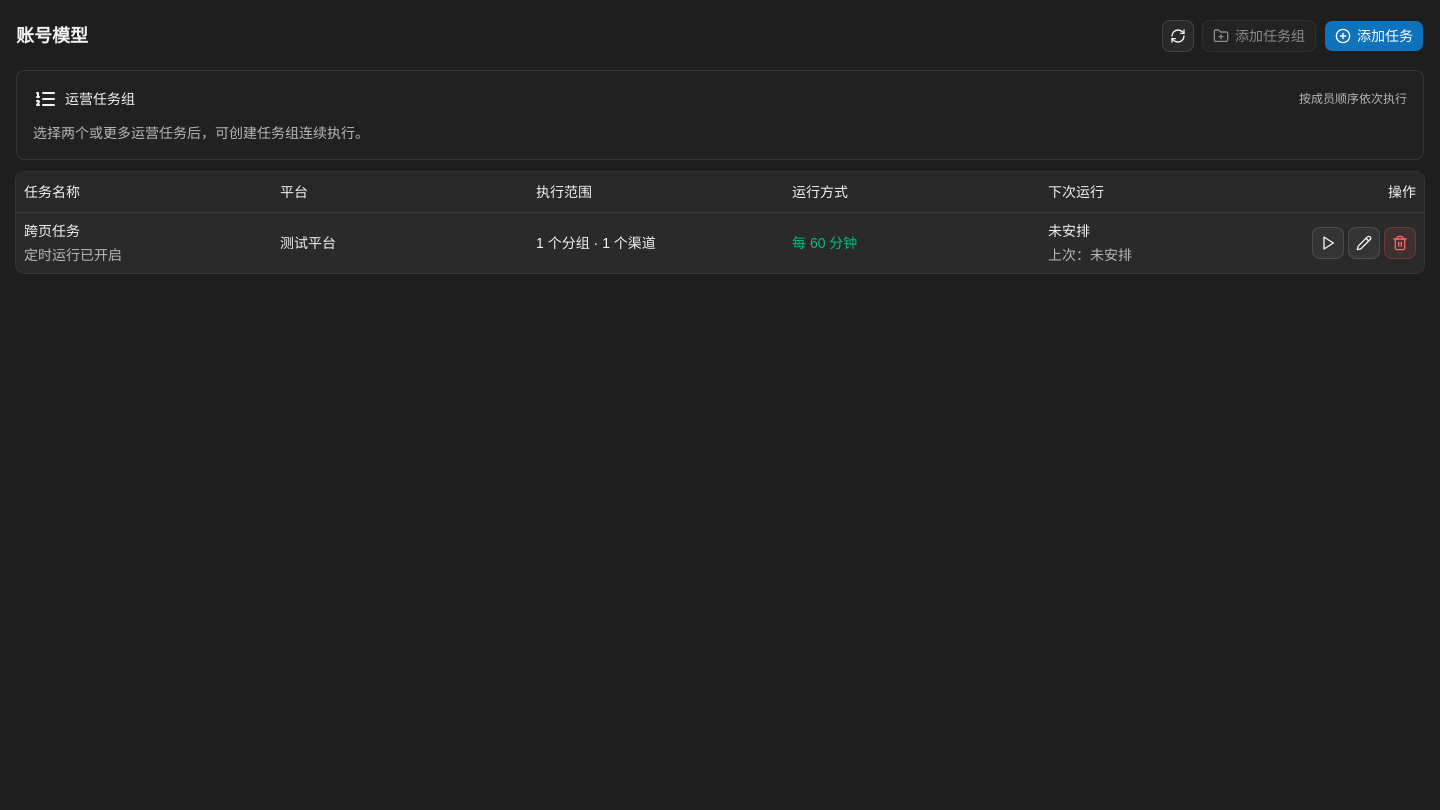
Test: 打开大目录的新增弹窗时只读一页，翻页后保留跨页选择且不缓存全部目录
Step 1. Click the button "添加任务" → (1374, 36), box [1324,20,1424,52]
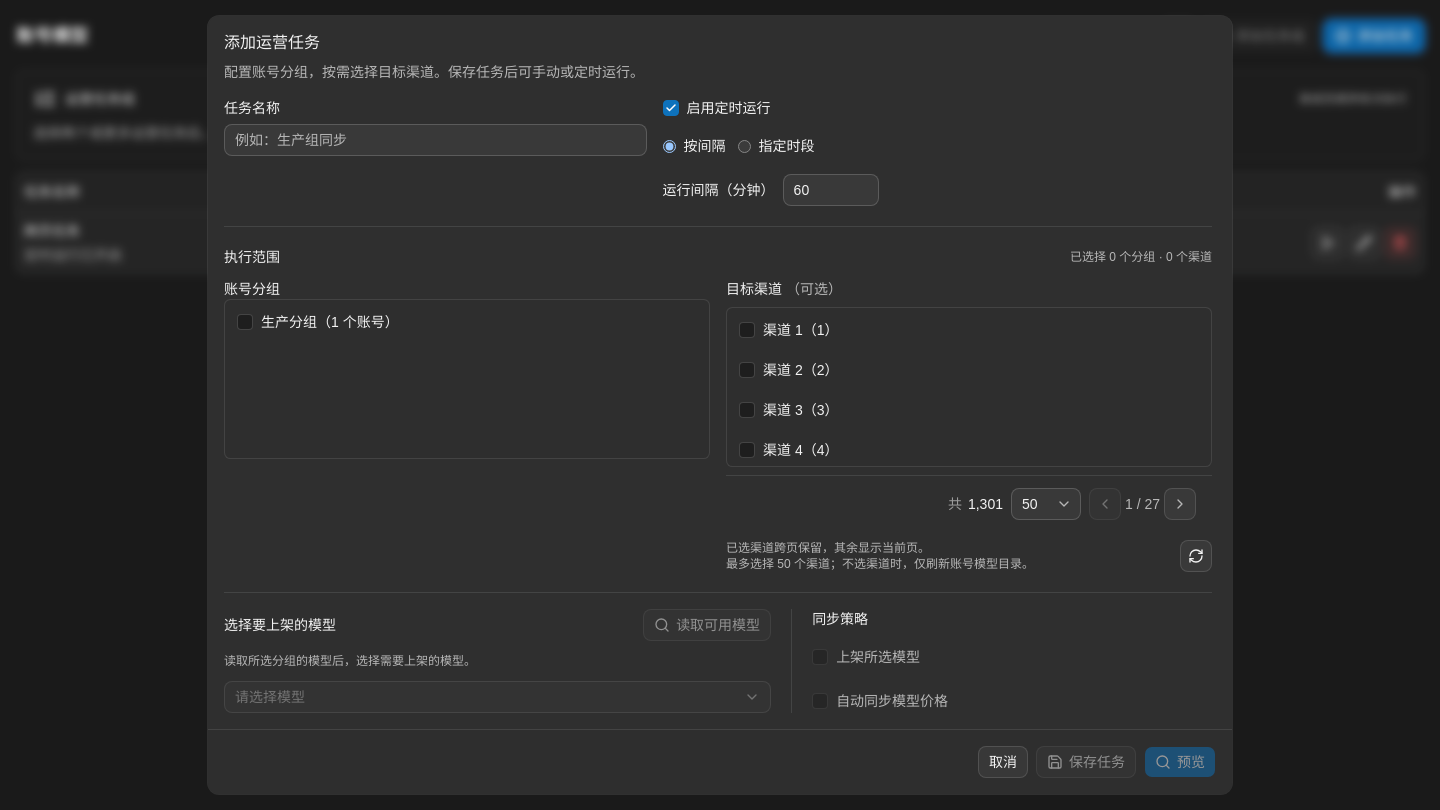
expect the field named "运营任务名称" is shown: met, box [224,124,647,156]
Step 2. Click the checkbox named "渠道 1（1）" next to "渠道 1" → (747, 330), box [739,322,755,338]
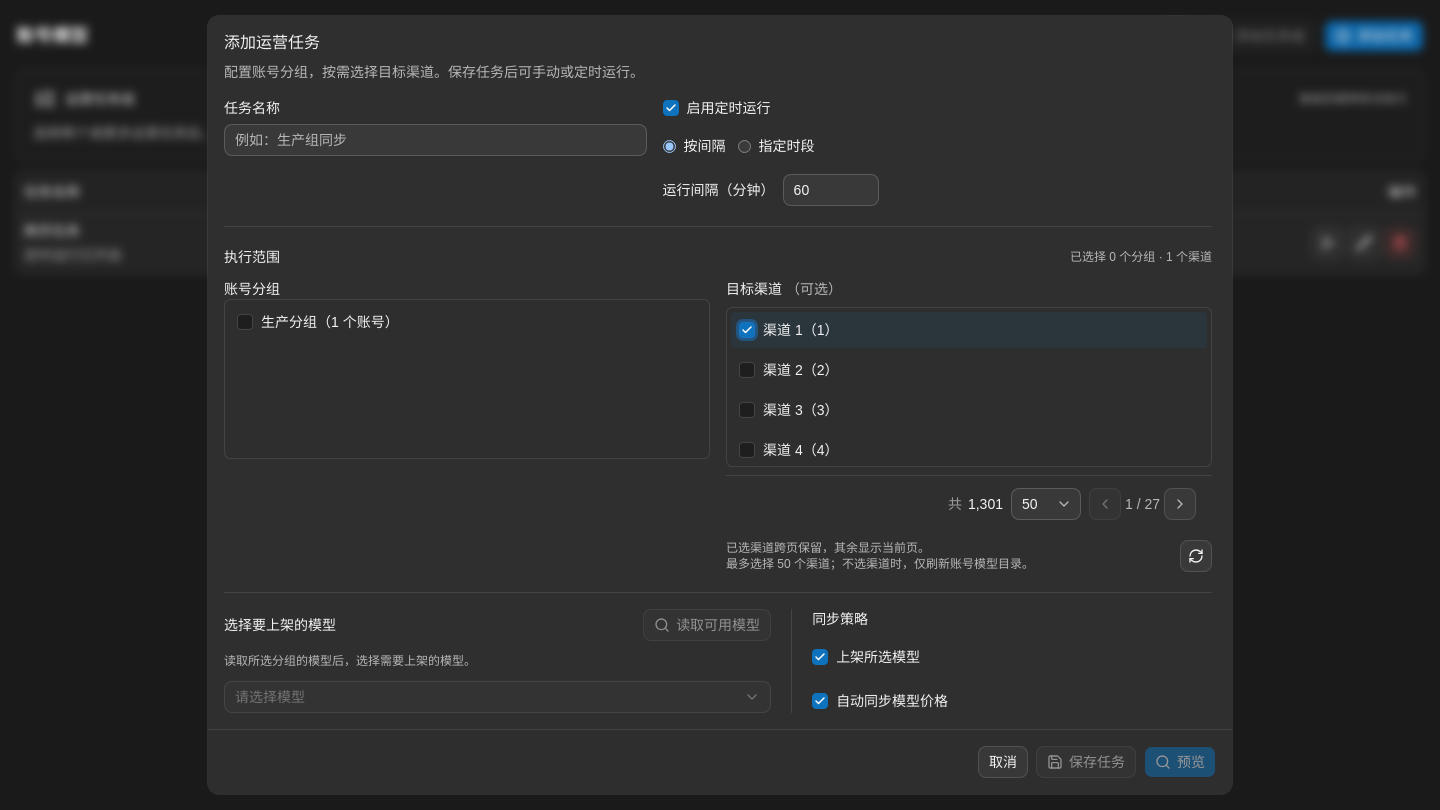
Step 3. Click the button named "转到下一页" → (1180, 504), box [1164,488,1196,520]
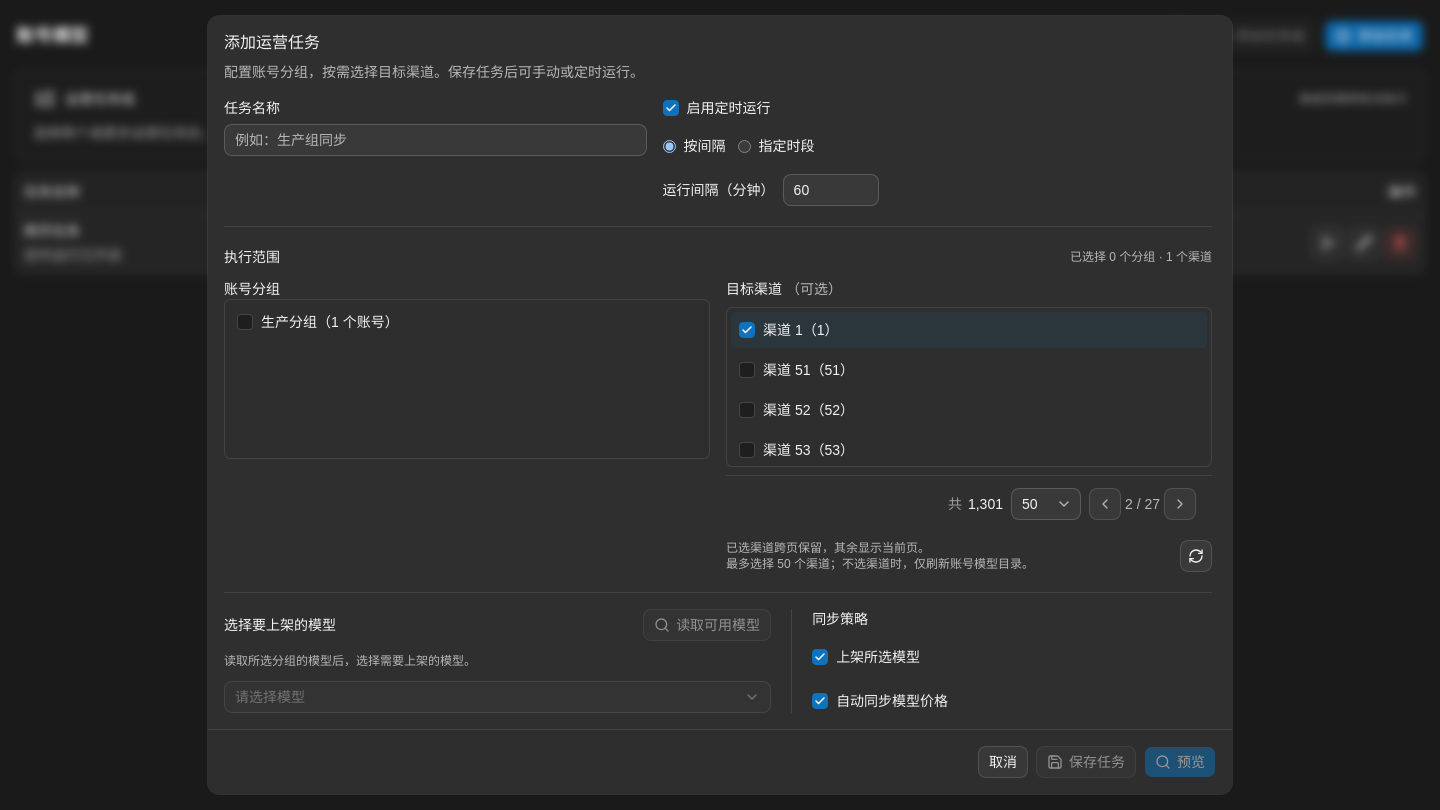
expect the checkbox named "渠道 51（51）" next to "渠道 51" is shown: met, box [739,362,755,378]
expect the checkbox named "渠道 1（1）" next to "渠道 1" is checked: met, box [739,322,755,338]
expect the text "渠道 2（2）" is gone: met
